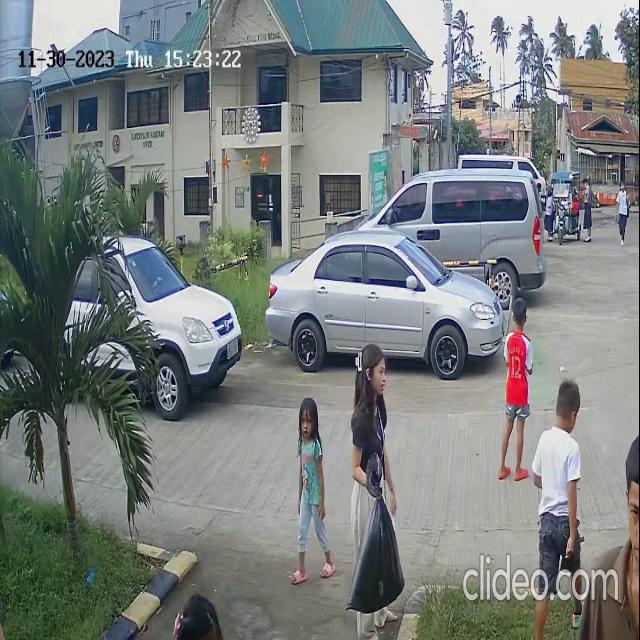garbage: (348, 459, 412, 619)
person: (289, 393, 338, 586), (541, 374, 585, 576), (503, 297, 531, 398), (354, 342, 389, 398), (613, 178, 634, 246)
